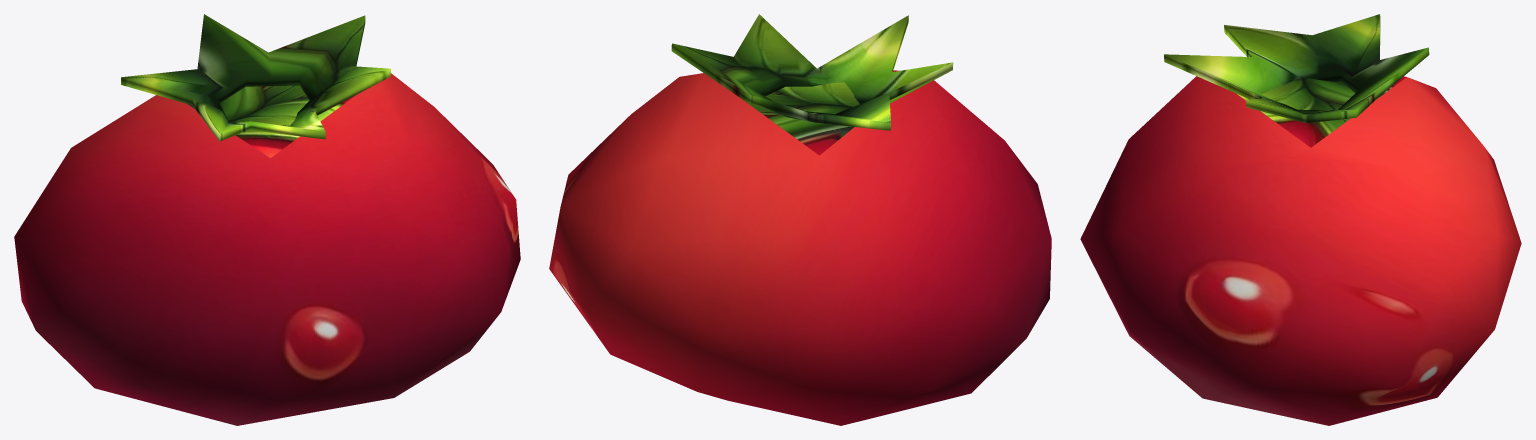
Rendered from tomato.glb.
The picture shows the model from 3 angles, left to right: view 1: azimuth 30°, elevation 25°; view 2: azimuth 150°, elevation 25°; view 3: azimuth 270°, elevation 25°; orthographic projection. The views are drawn at different scales.
Visible parts, largest first — view 1: tomato; view 2: tomato; view 3: tomato.
Part boxes in pixels (x1,y1,x2,y2): tomato: [14, 14, 520, 425]; tomato: [549, 14, 1051, 425]; tomato: [1080, 14, 1521, 425].
Bounding box in the file's own units: 2.02 × 1.42 × 1.74.
1 material, 1 textured.
